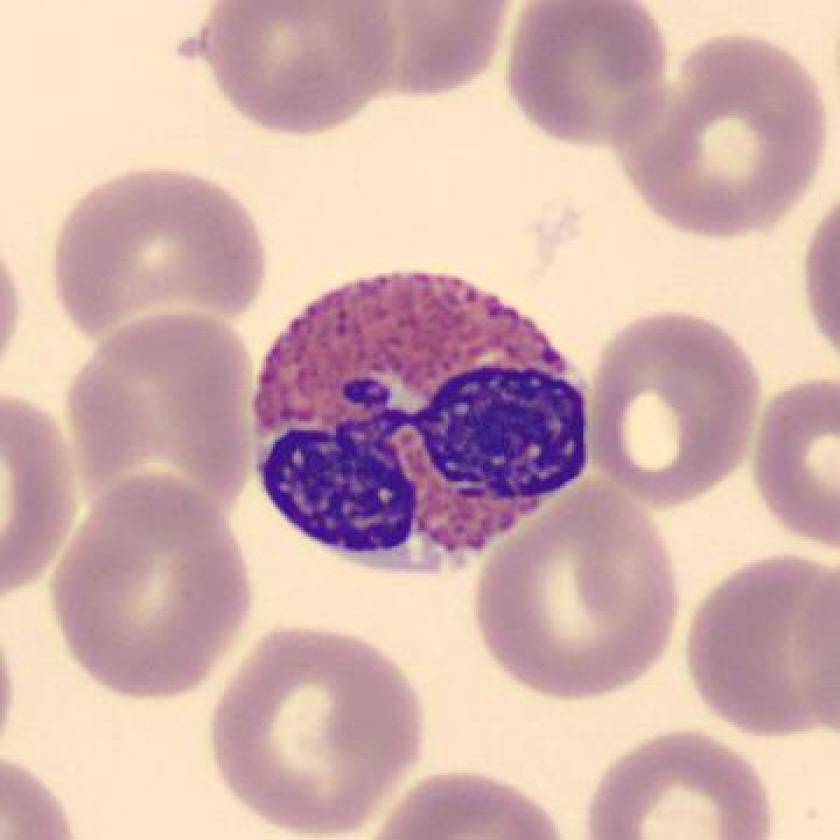eosinophil: (239, 262, 605, 589)
